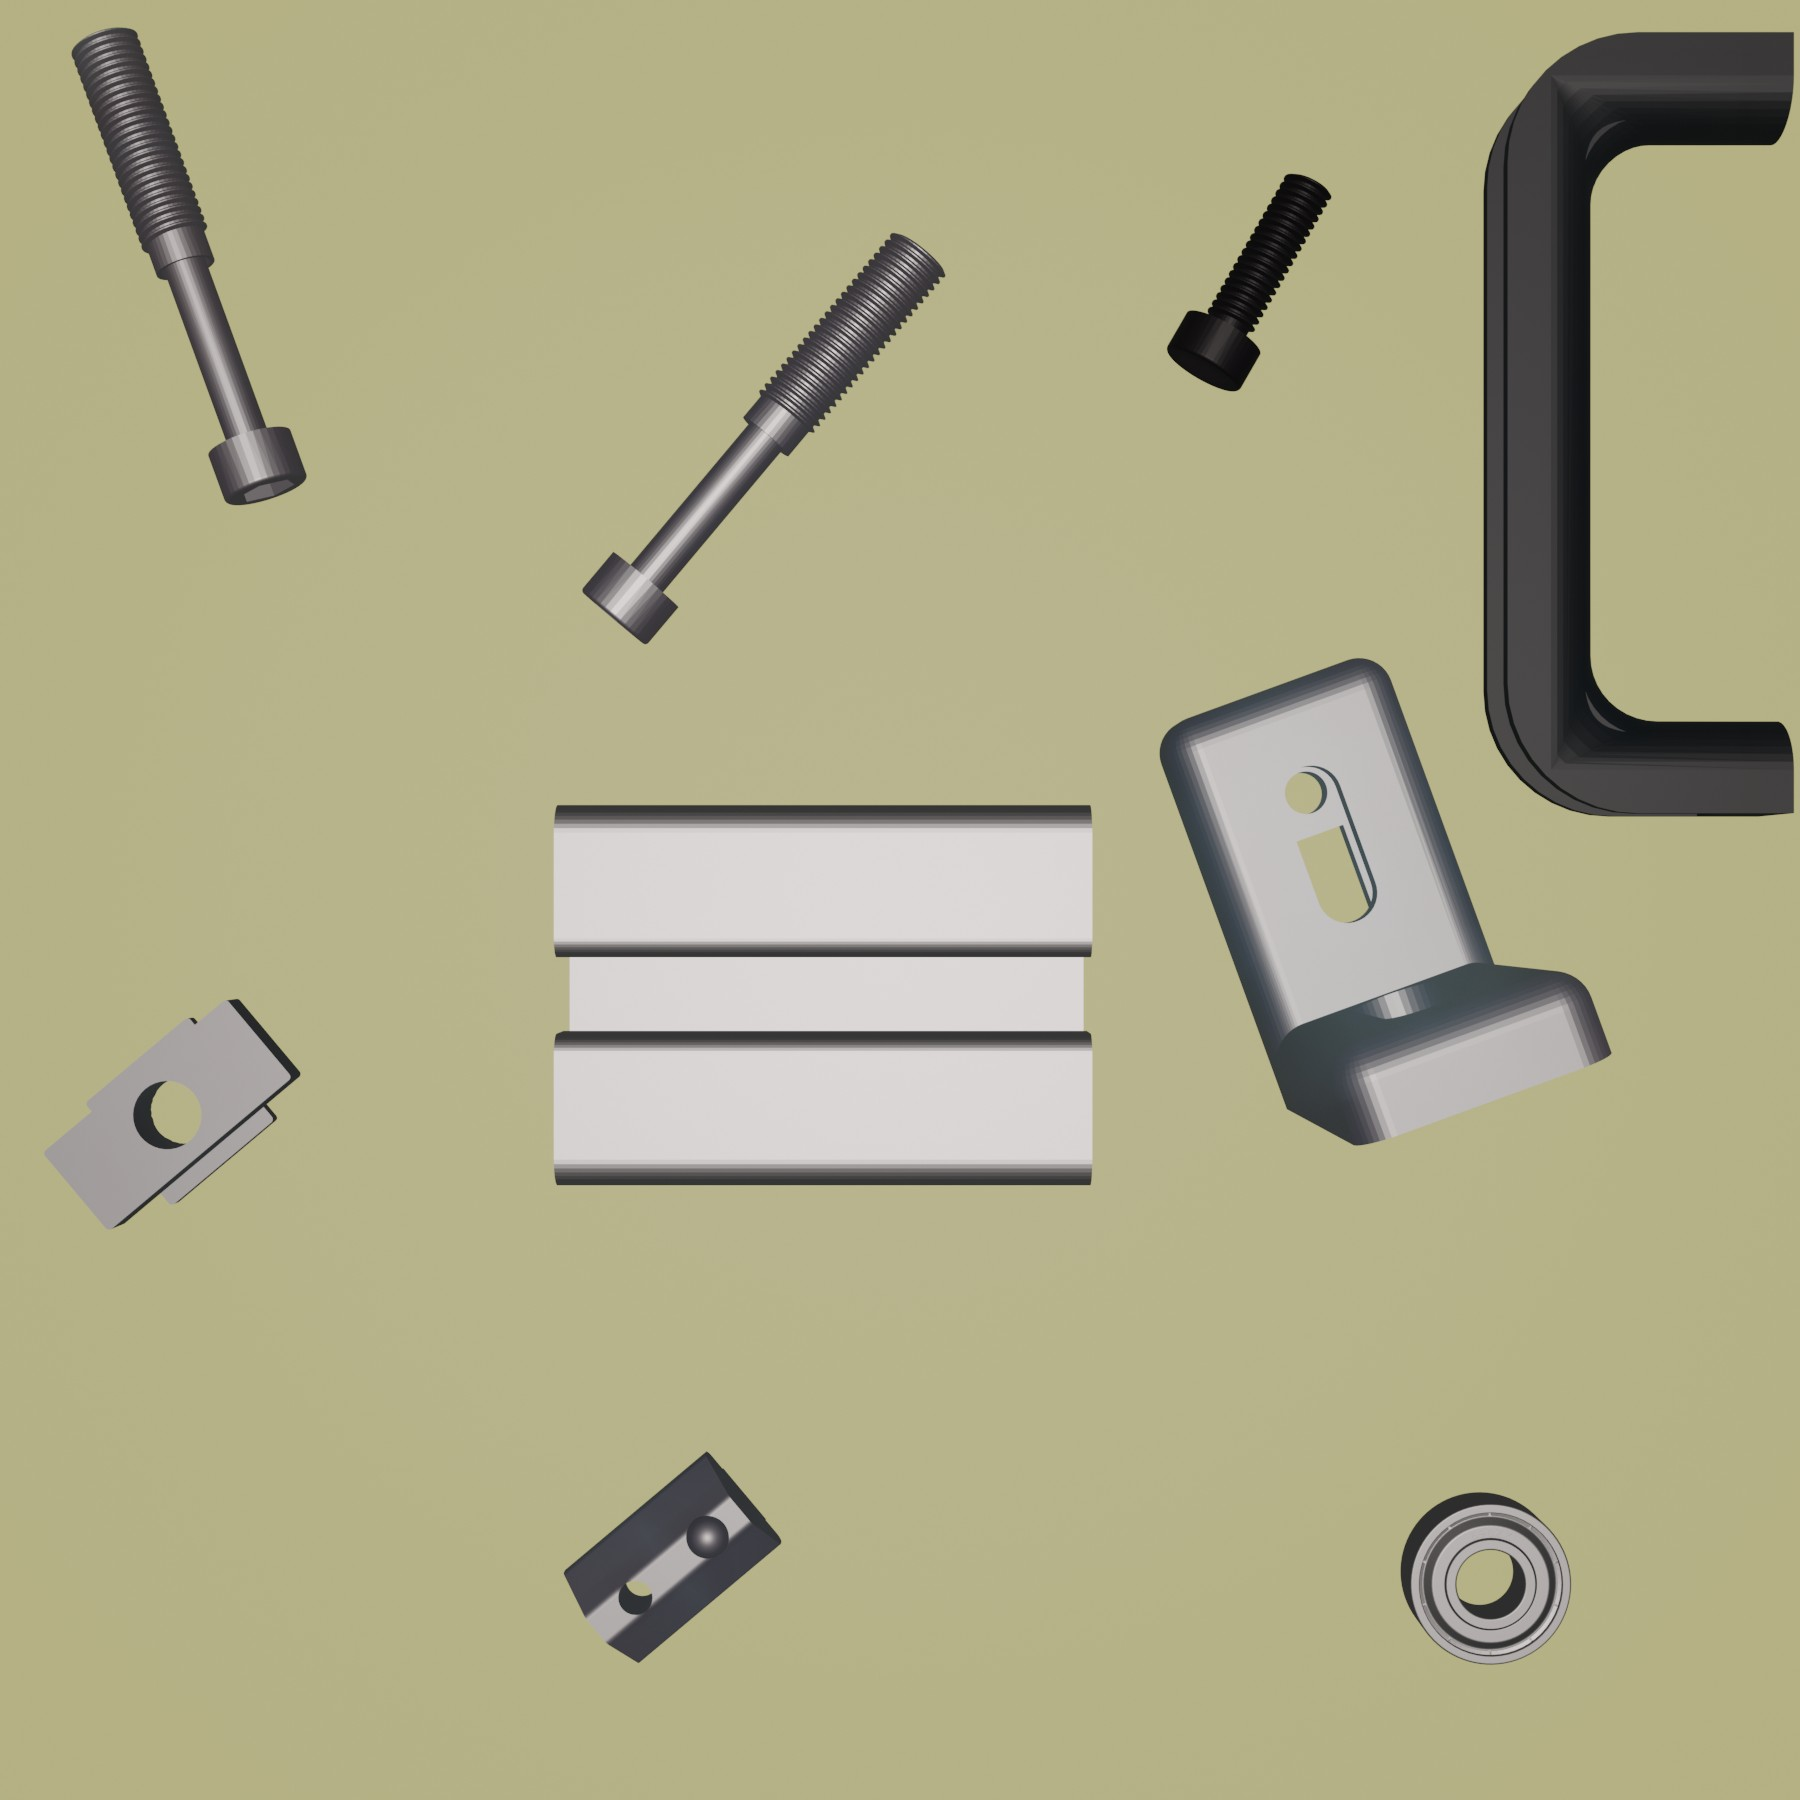Aluminium Extension: (551, 799, 1098, 1188)
Ball Bearing: (1398, 1492, 1574, 1666)
Multiwinkel: (1155, 654, 1614, 1147)
Pull Handle: (1479, 28, 1800, 823)
Shoulder Socket Head Cap Screw: (580, 227, 949, 648), (68, 23, 308, 508)
Socket Head Cap Screw: (1165, 170, 1334, 392)
T Nut Square: (38, 996, 307, 1231)
T Spring Nut: (562, 1447, 783, 1665)
